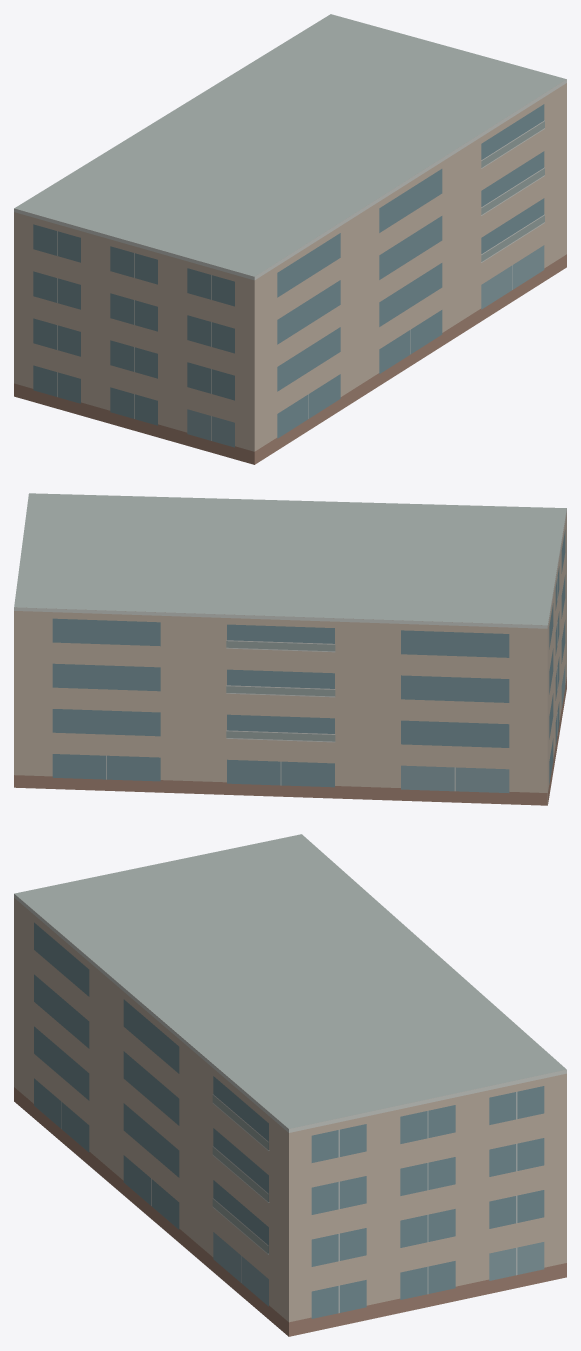
Rendered from survey-upis-32826546.glb.
The picture shows the model from 3 angles, top to bottom: view 1: azimuth 30°, elevation 25°; view 2: azimuth 150°, elevation 25°; view 3: azimuth 270°, elevation 25°; orthographic projection. The views are drawn at different scales.
Visible parts, largest first — view 1: survey-upis-32826546.tmp; view 2: survey-upis-32826546.tmp; view 3: survey-upis-32826546.tmp.
Boxes of the visible parts, box(x1,y1,x2,y2) form: survey-upis-32826546.tmp: box(14, 14, 566, 464); survey-upis-32826546.tmp: box(14, 493, 566, 805); survey-upis-32826546.tmp: box(14, 834, 566, 1336).
Bounding box in the file's own units: 38.36 × 12.6 × 30.39.
